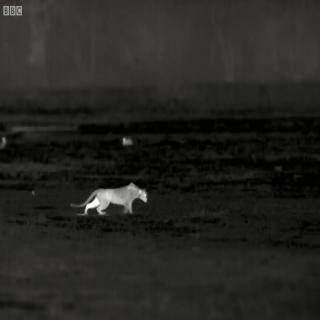Leopard: (65, 169, 164, 231)
